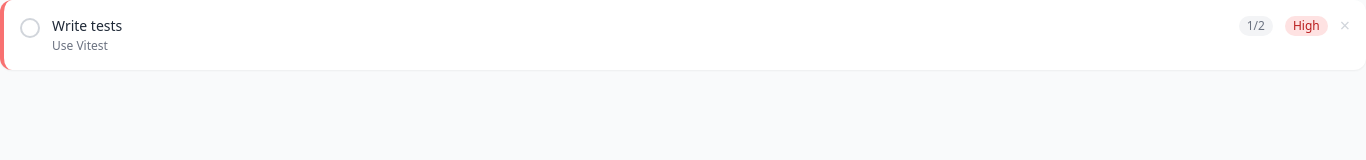
Test: TaskItem — children › expands the children list when count badge is clicked
Step 1. Click the button with test id "children-count" → point(1256, 26), box top-left (1239, 16), bottom-right (1273, 36)
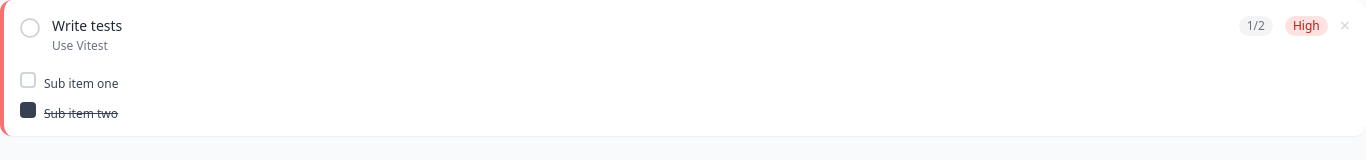
Expected: the list with test id "children-list" is shown, top-left (20, 72), bottom-right (118, 122)
